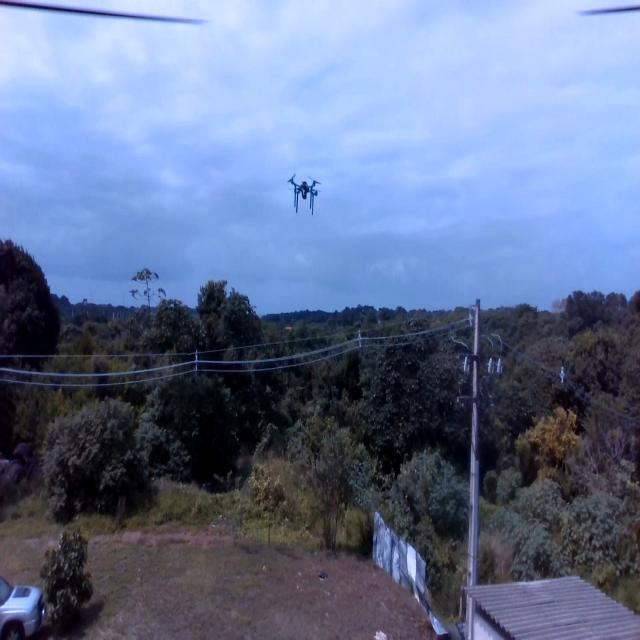-uav-: (284, 154, 323, 224)
